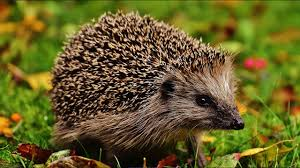hedgehog: (56, 14, 242, 157)
